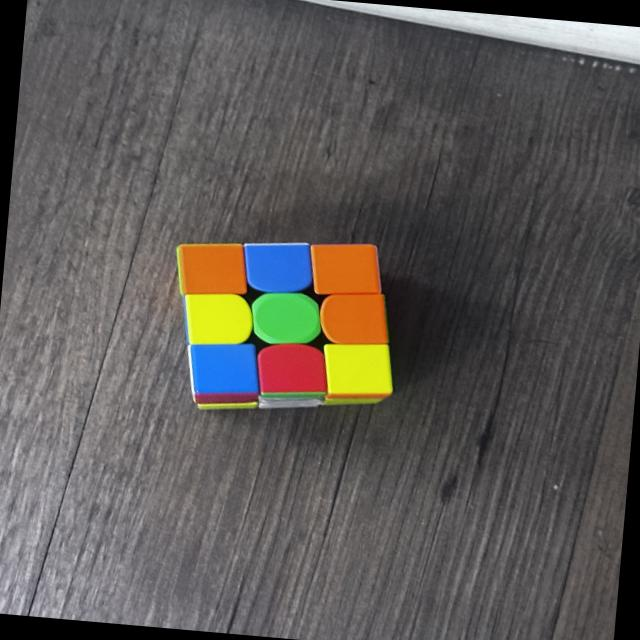sticker: (252, 293, 323, 344), (181, 295, 254, 344), (189, 344, 259, 394), (323, 343, 392, 393), (177, 245, 247, 294), (319, 294, 389, 343), (257, 344, 327, 393), (311, 245, 379, 294), (244, 243, 311, 290)
